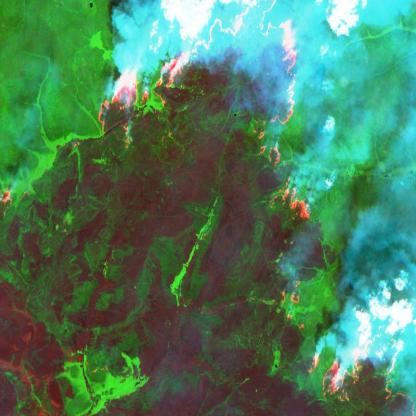fire: (95, 0, 301, 169), (308, 346, 416, 416), (276, 173, 316, 233), (275, 274, 310, 335)
